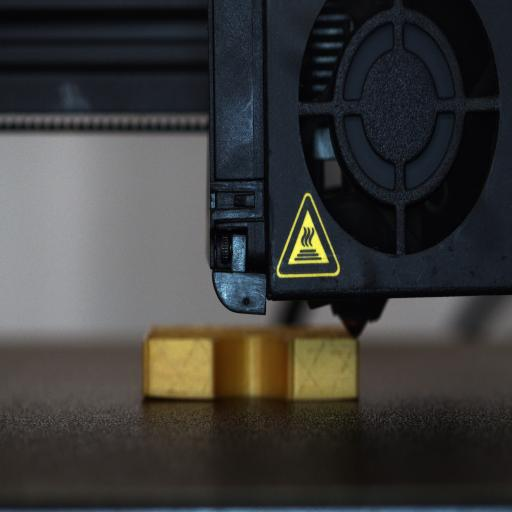warp: (136, 385, 178, 407)
